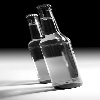beer: (33, 4, 85, 90)
